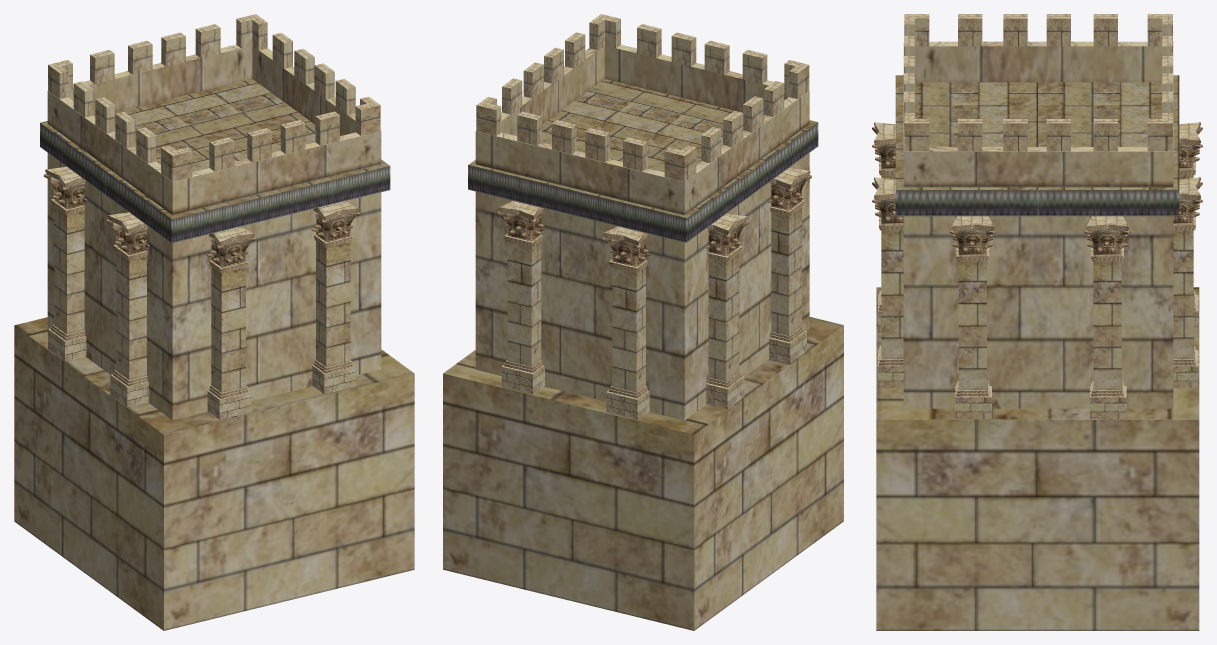
Rendered from wall_tower_s.dae.
3 renders of one model, left to right at view 1: azimuth 30°, elevation 25°; view 2: azimuth 150°, elevation 25°; view 3: azimuth 270°, elevation 25°, orthographic. The views are drawn at different scales.
Parts seen in each view (by area): view 1: wall_tower_s; view 2: wall_tower_s; view 3: wall_tower_s.
Boxes of the visible parts, left/top/right/bottom form: wall_tower_s: left=14, top=14, right=414, bottom=630; wall_tower_s: left=443, top=14, right=843, bottom=630; wall_tower_s: left=872, top=14, right=1202, bottom=630.
Bounding box in the file's own units: 3.13 × 3.22 × 5.33.
